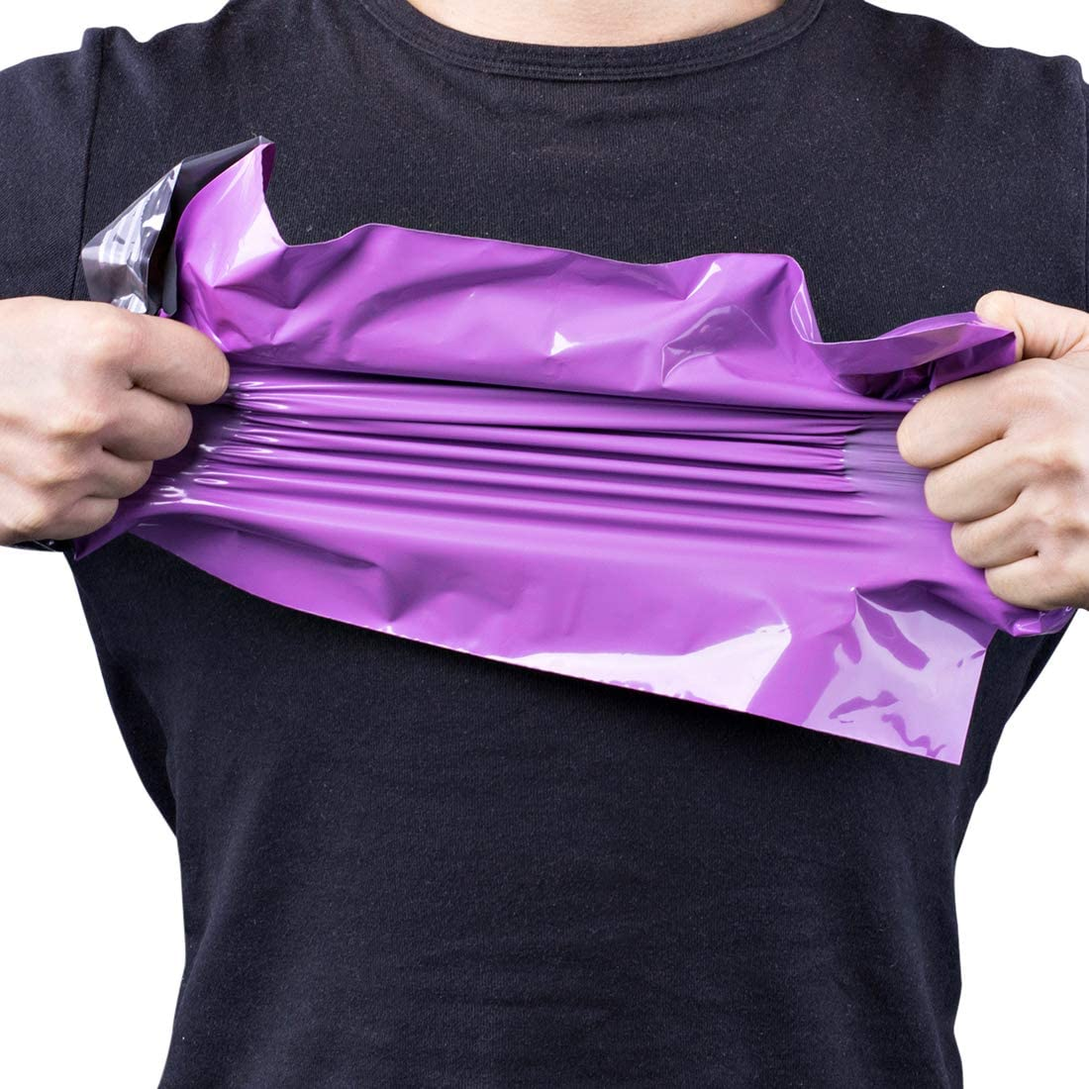塑料袋: (76, 139, 1066, 762)
